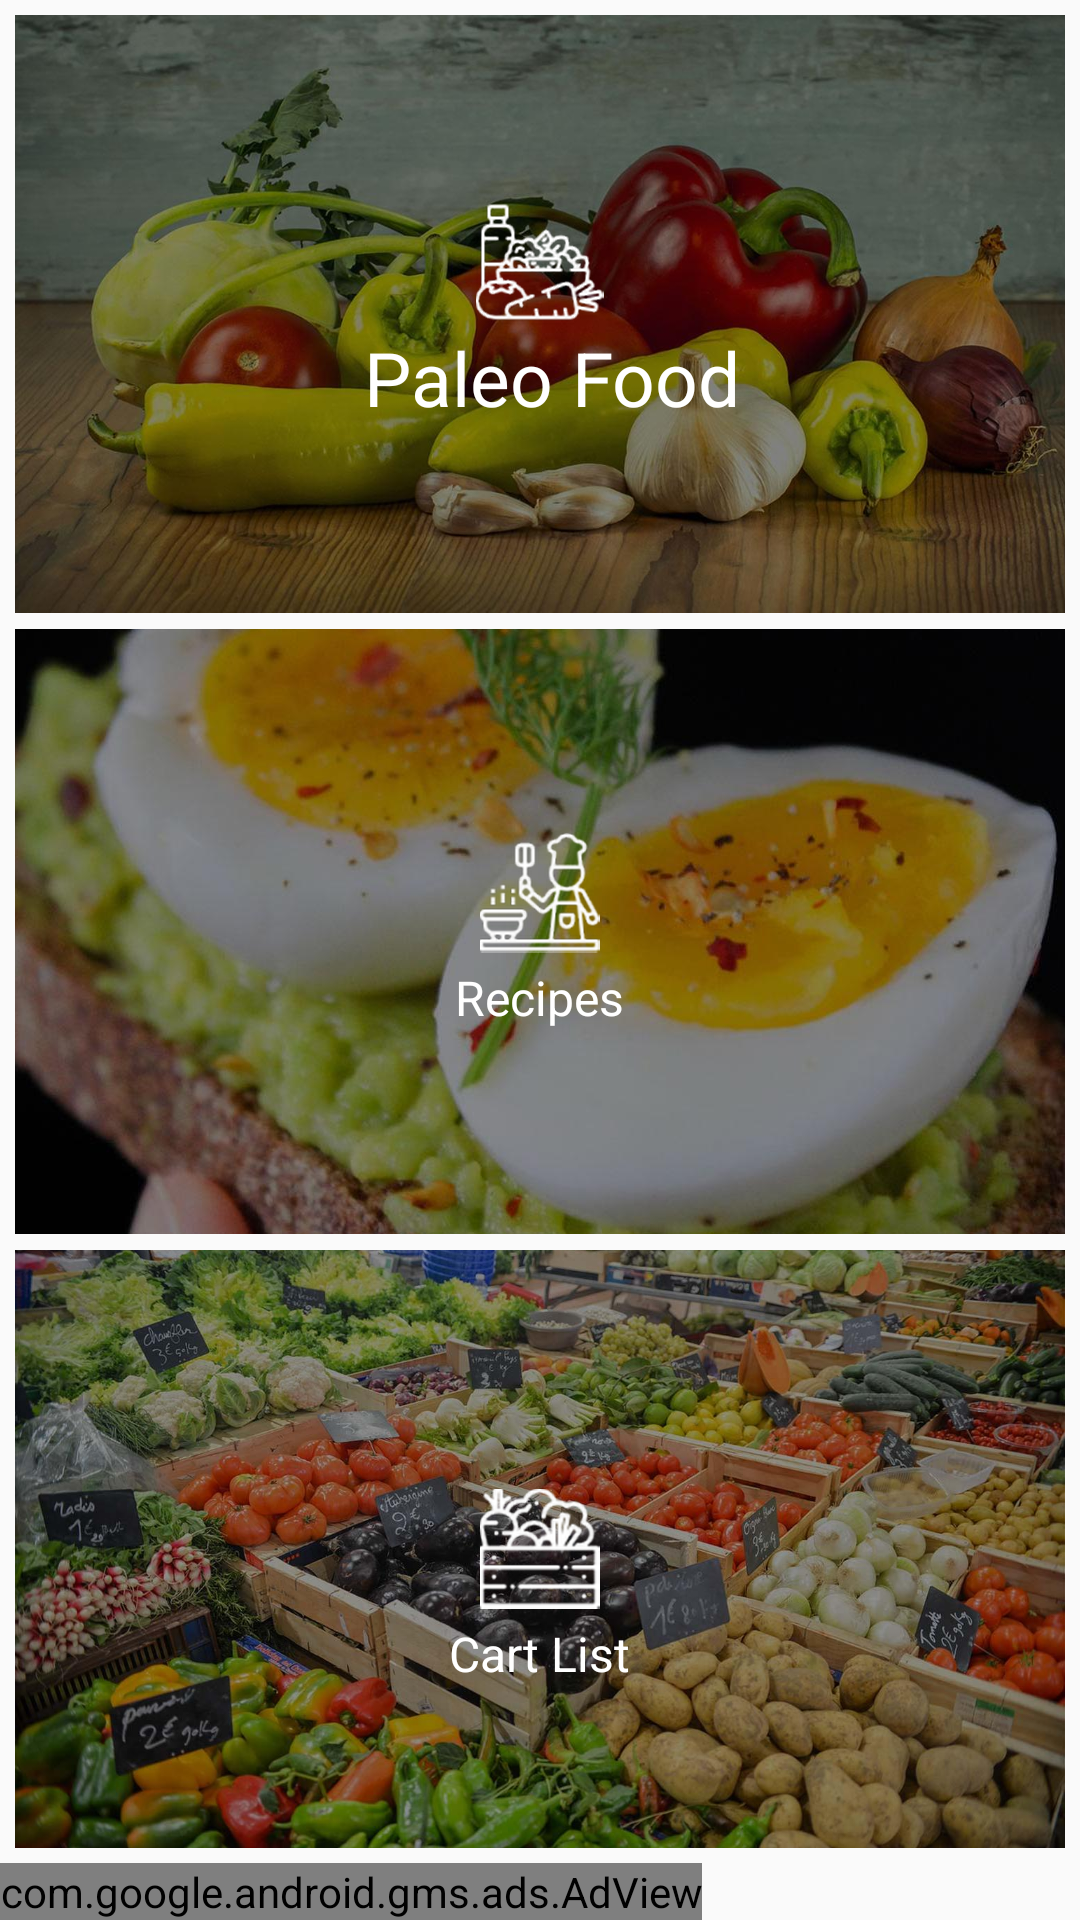

Screen size 1080×1920. Icon name, then its center in pixels as [x,y]:
cooking: [540,893]
diet: [540,263]
vegetables home: [540,1549]
